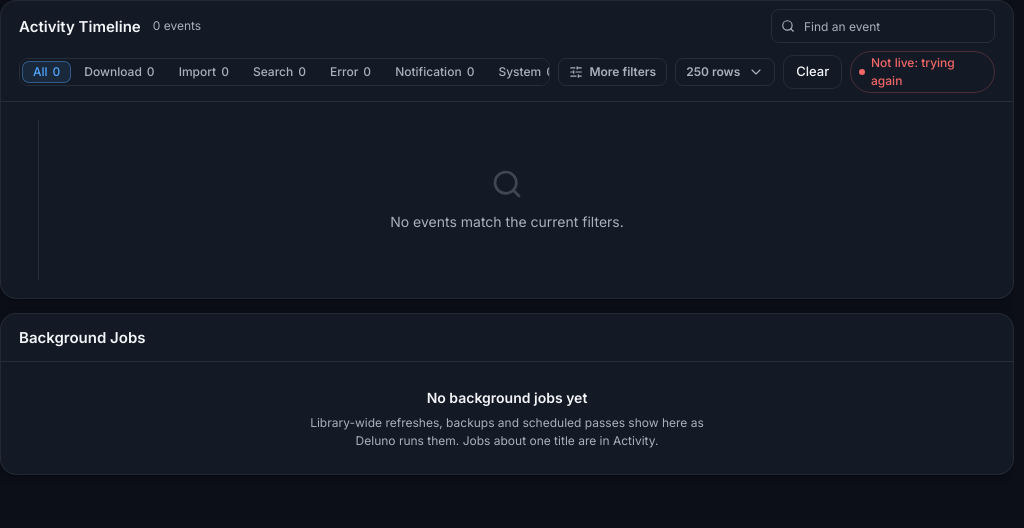
it: Activity timeline (System > Audit) › a page size the server refuses says so in plain words, never says Page size saved, and keeps the stored size (#1415)
The image size is (1024, 528).
Click the dropdown named "Rows shown".
click(725, 72)  # box [675, 58, 775, 86]
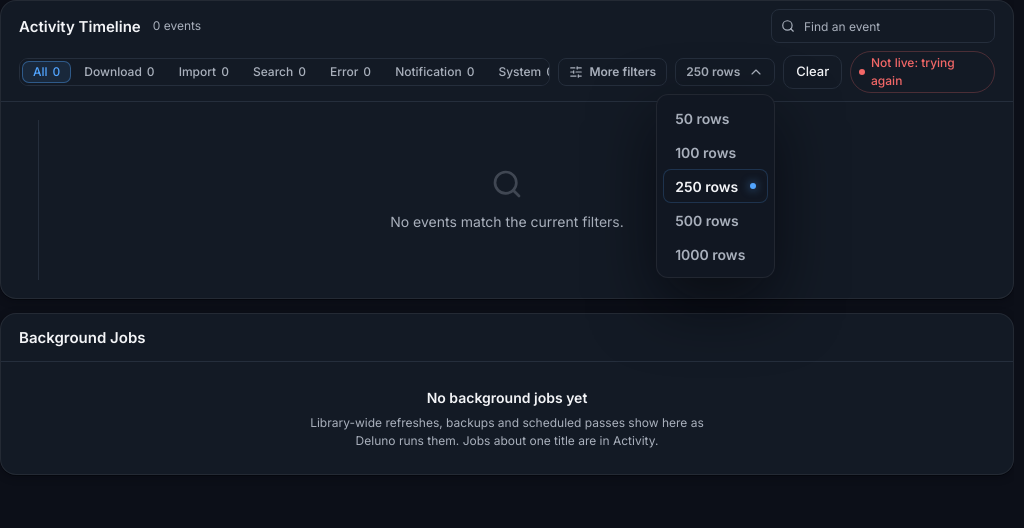
Click the option "1000 rows".
click(716, 254)  # box [663, 237, 768, 271]
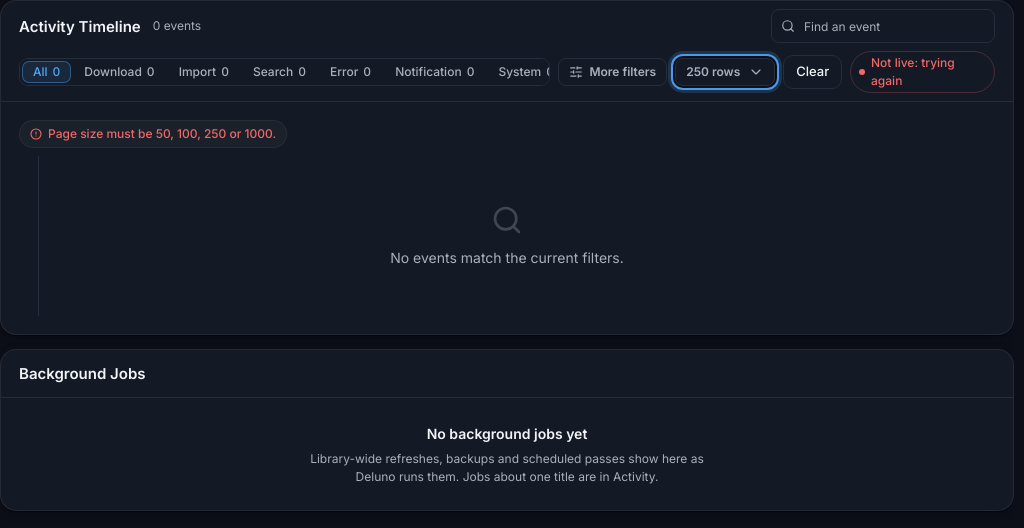
Check: the text "Page size must be 50, 100, 250 or 1000." is shown, box [19, 120, 287, 148]
Check: the dropdown named "Rows shown" no longer shows "1000 rows", box [675, 58, 775, 86]
